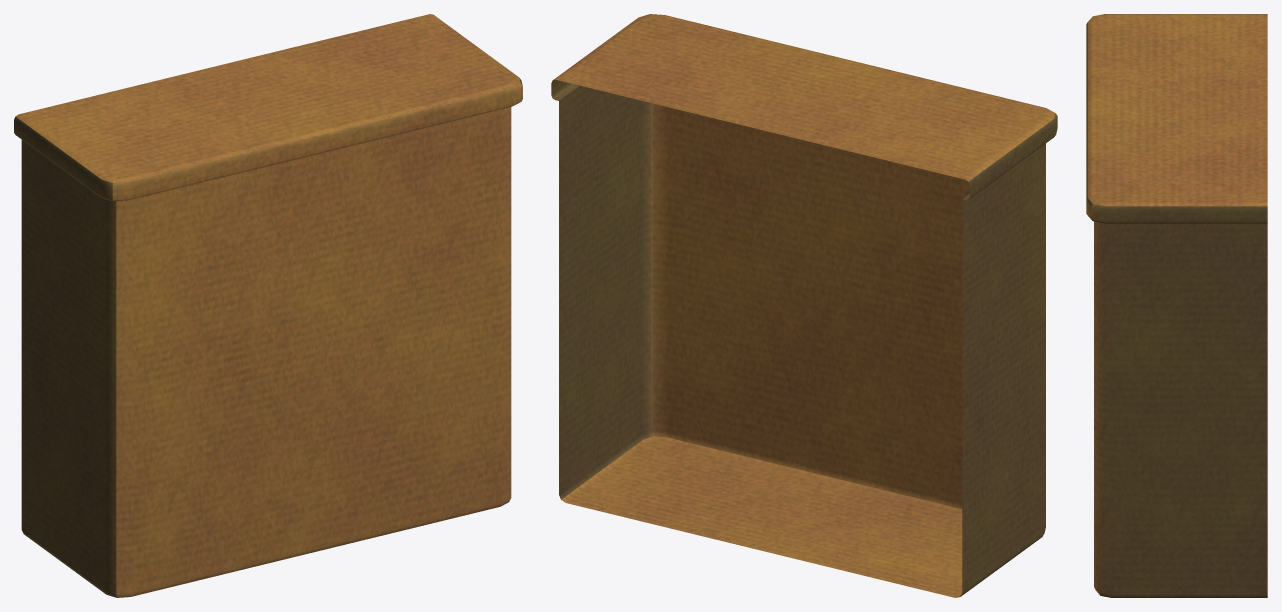
The model's file is JimenLow_C.fbx.
3 views of the same model, side by side, from view 1: azimuth 30°, elevation 25°; view 2: azimuth 150°, elevation 25°; view 3: azimuth 270°, elevation 25° (orthographic). The views are drawn at different scales.
Visible parts, largest first — view 1: StageLow; view 2: StageLow; view 3: StageLow.
Part boxes in pixels (x1,y1,x2,y2): StageLow: [14, 14, 522, 597]; StageLow: [551, 14, 1057, 597]; StageLow: [1086, 14, 1267, 597].
Bounding box in the file's own units: 13.27 × 12.76 × 5.25.
